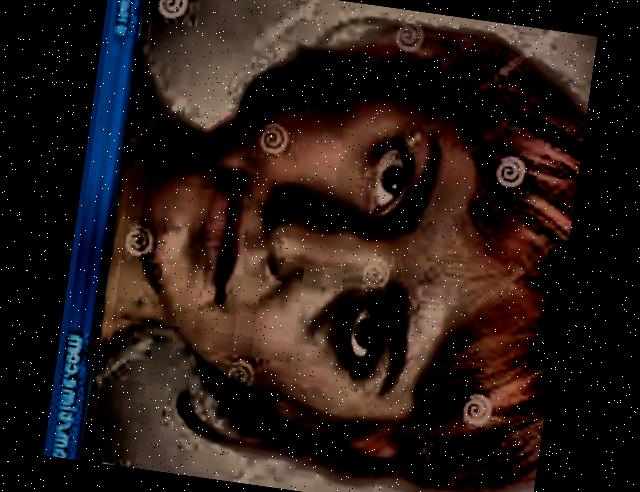neutral: (114, 50, 503, 441)
